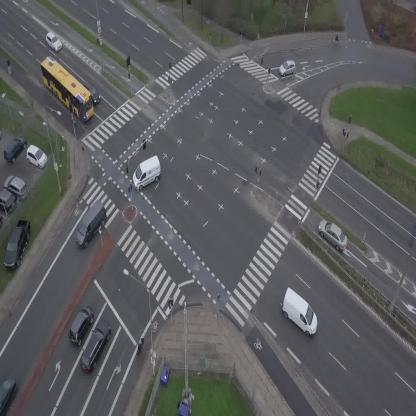bicycle: (133, 336, 146, 356), (330, 33, 343, 46), (4, 58, 14, 73)
bus: (33, 53, 103, 124)
car: (76, 317, 116, 375), (312, 216, 354, 254), (63, 304, 98, 349), (0, 374, 20, 416), (81, 80, 103, 105), (42, 30, 64, 53), (277, 59, 298, 77)
lorry: (272, 286, 327, 339), (67, 199, 115, 250), (126, 155, 167, 192)
